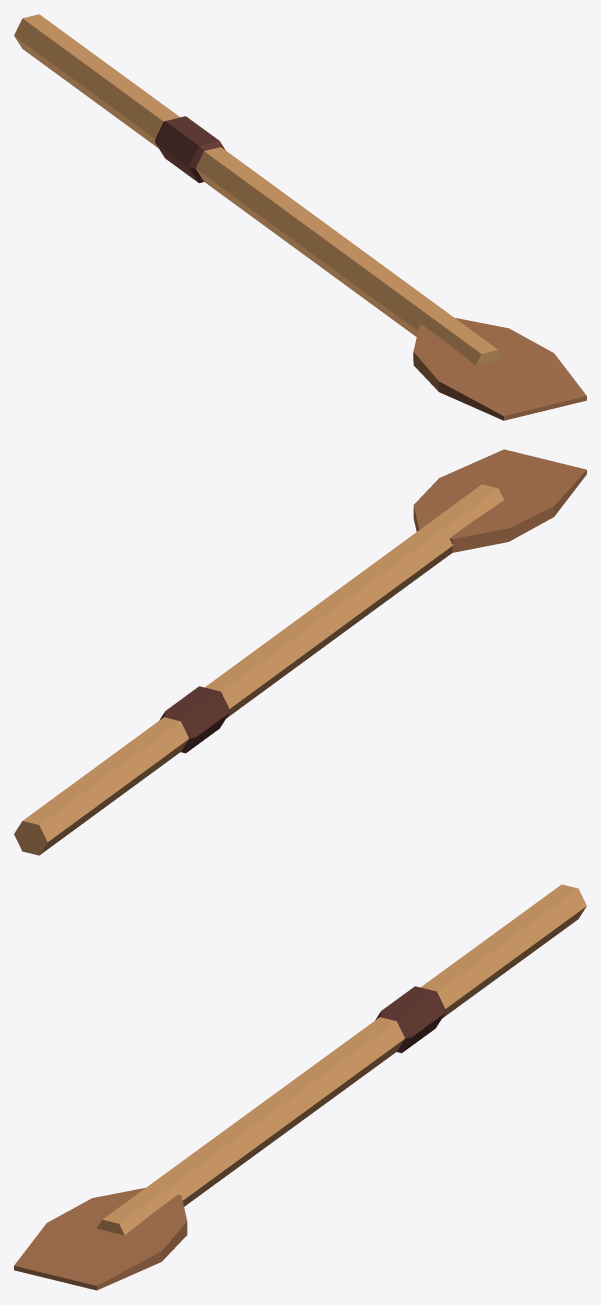
The model's file is oar.fbx.
3 views of the same model, one above another, from view 1: azimuth 30°, elevation 25°; view 2: azimuth 150°, elevation 25°; view 3: azimuth 330°, elevation 25° (orthographic).
Parts seen in each view (by area): view 1: oar; view 2: oar; view 3: oar.
Part boxes in pixels (x1=…): oar: x1=14, y1=14, x2=586, y2=420; oar: x1=14, y1=449, x2=586, y2=855; oar: x1=14, y1=884, x2=586, y2=1290.
Bounding box in the file's own units: 37.52 × 11.66 × 291.
